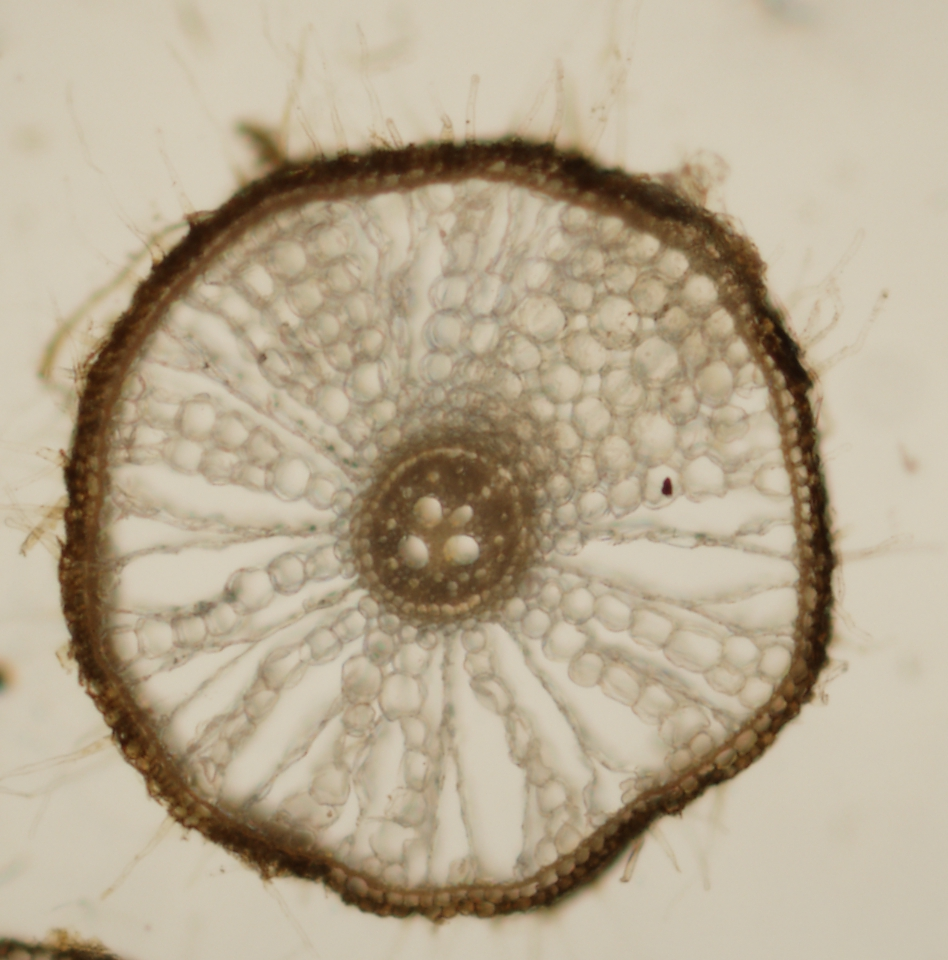lm: (443, 534, 479, 566), (398, 534, 428, 569), (414, 496, 443, 529), (449, 505, 473, 527)
